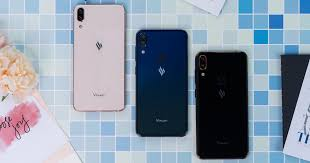vsmart: (72, 2, 129, 115), (133, 25, 190, 138), (193, 49, 250, 162)
